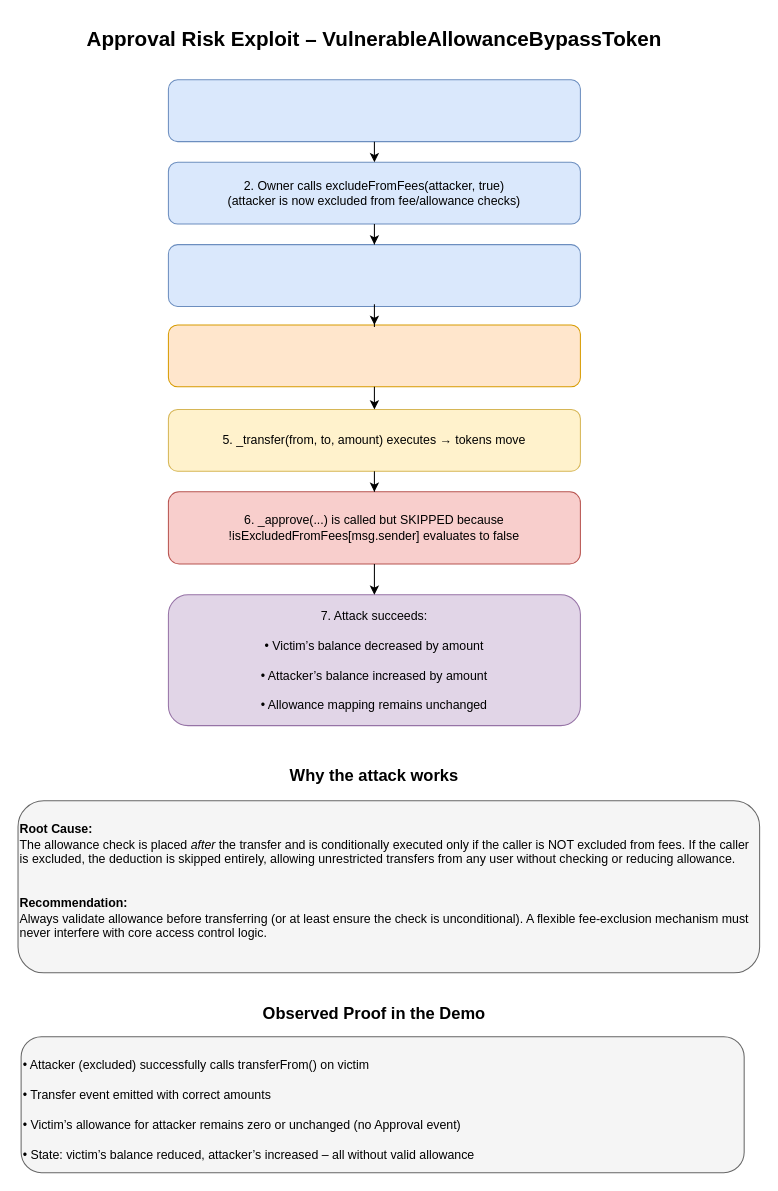
The diagram is 778 pixels wide and 1191 high, and some of its shapes have lost their labels. The shapes that lost their labels are listed below. From the top down, each one's centre as x and y in pixels, then its label:
pixel 373 110: 1. Deploy VulnerableAllowanceBypassToken (Owner = Attacker)
pixel 373 275: 3. Victim holds tokens (balanceOf[victim] > 0)
pixel 373 355: 4. Attacker calls transferFrom(victim, attacker, amount)
